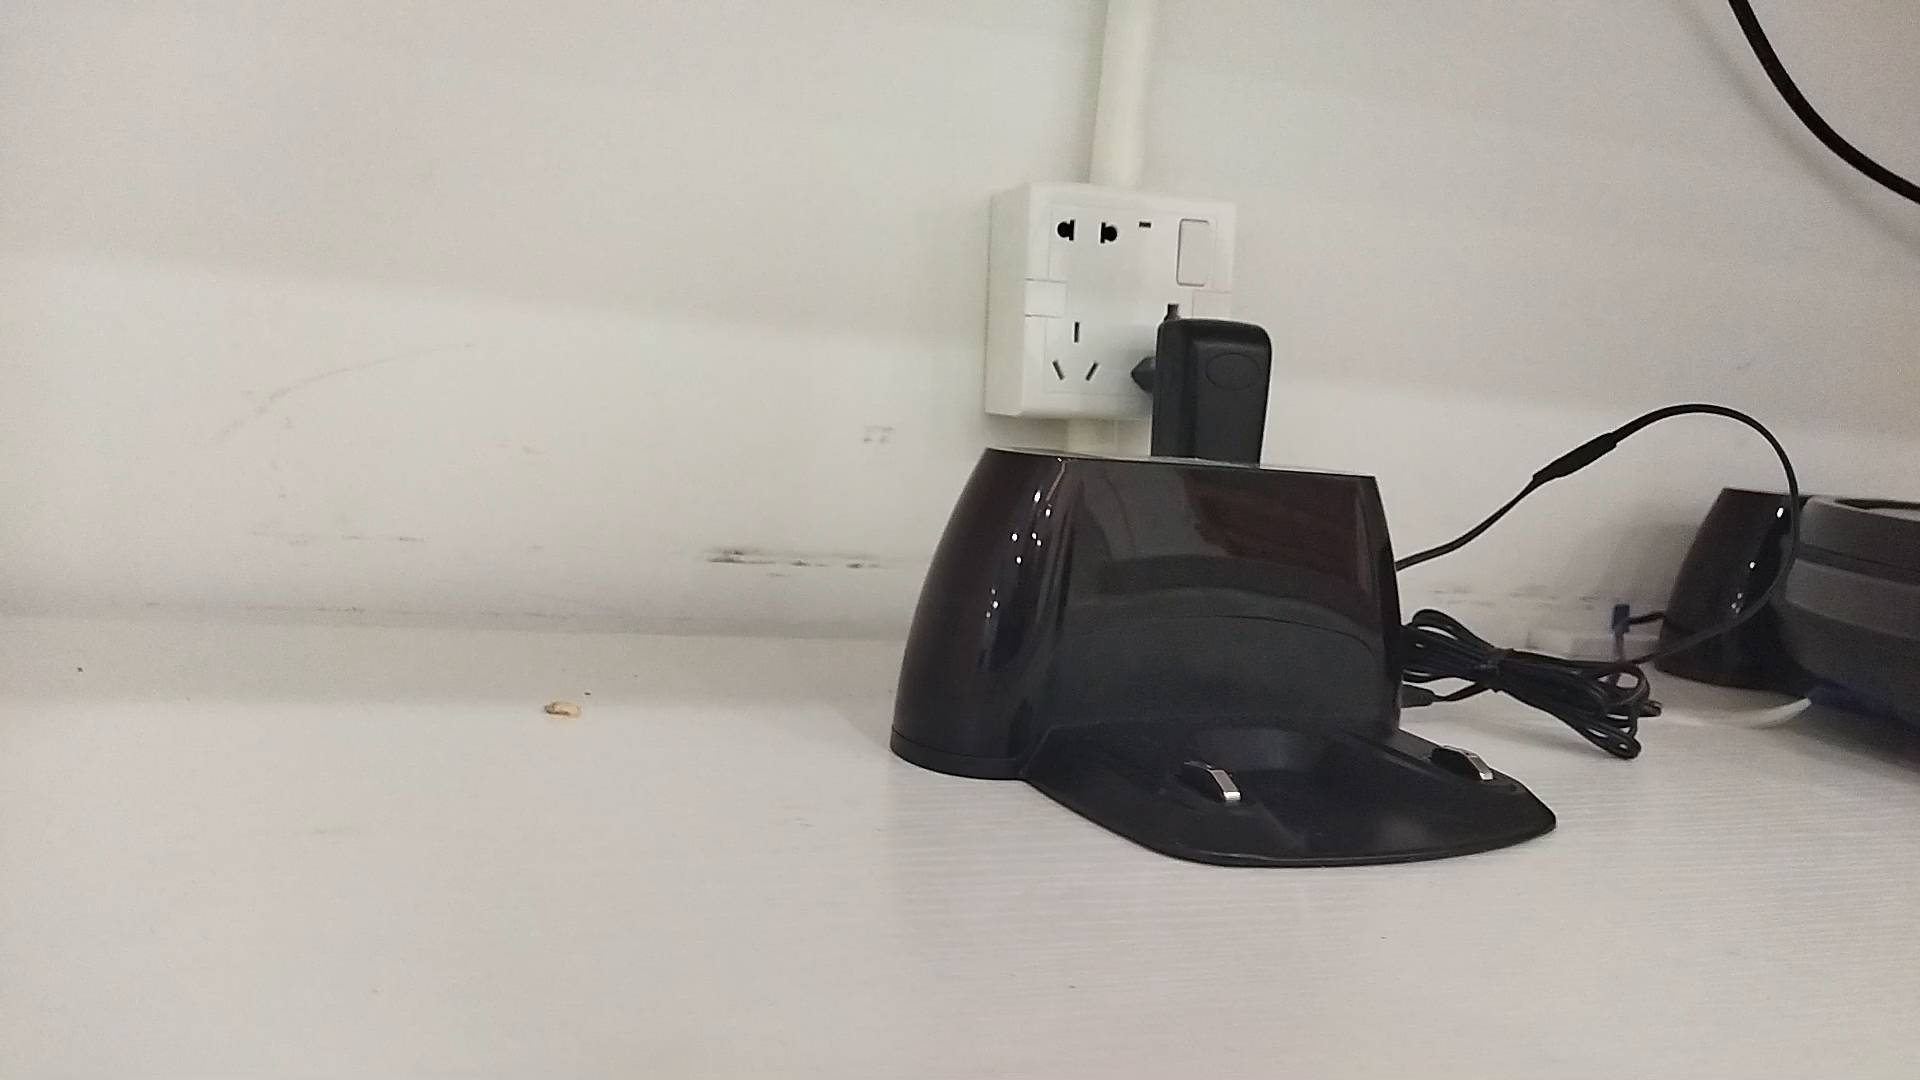recharge seat: (890, 446, 1555, 870)
